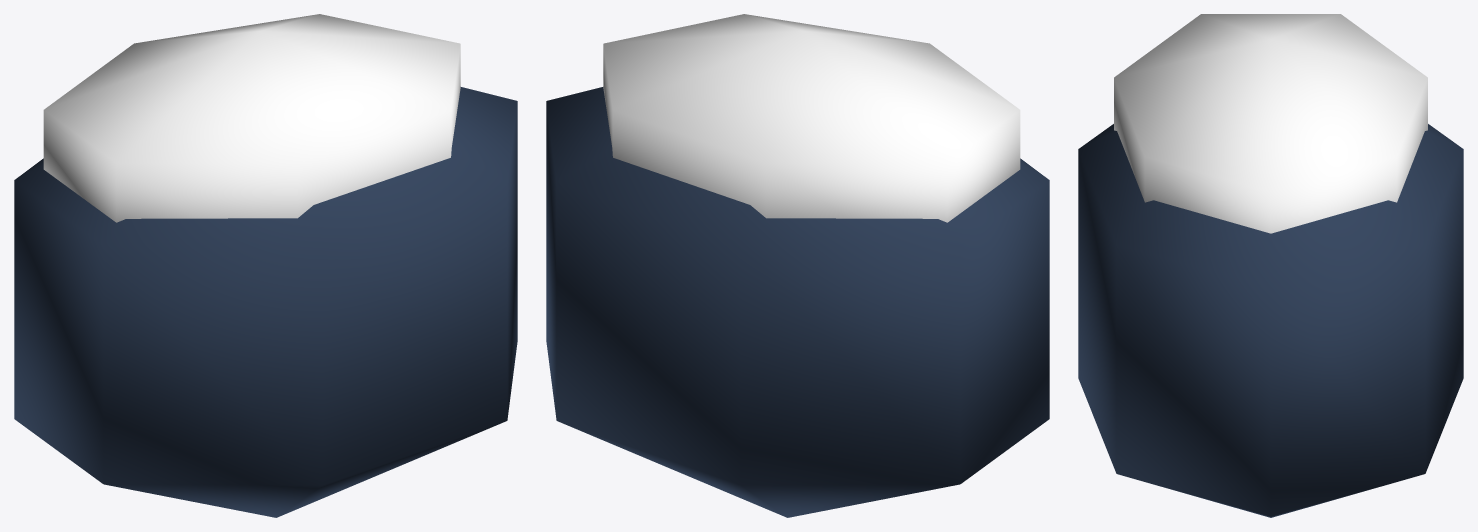
File: rock.glb
3 renders of one model, left to right at view 1: azimuth 30°, elevation 25°; view 2: azimuth 150°, elevation 25°; view 3: azimuth 270°, elevation 25°, orthographic. The views are drawn at different scales.
Visible parts, largest first — view 1: Prop_rock; view 2: Prop_rock; view 3: Prop_rock.
Boxes of the visible parts, x1,y1,x2,y2 form: Prop_rock: [14, 14, 517, 517]; Prop_rock: [546, 14, 1049, 517]; Prop_rock: [1078, 14, 1463, 517].
Size of the model in its own units: 1.45 by 1.48 by 1.1.
